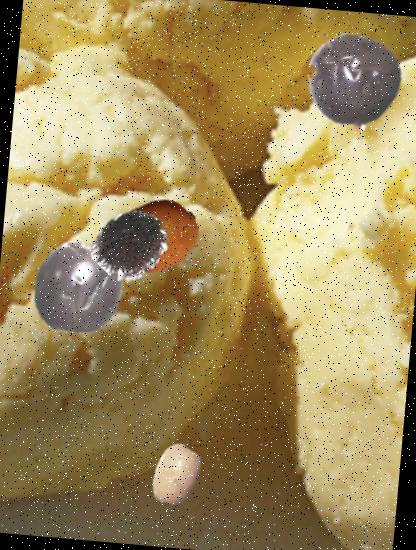Apricot: (114, 191, 203, 280)
Kumquats: (143, 442, 210, 508)
Passion: (302, 28, 410, 136), (26, 235, 132, 340)
Rambutan: (92, 205, 172, 285)
